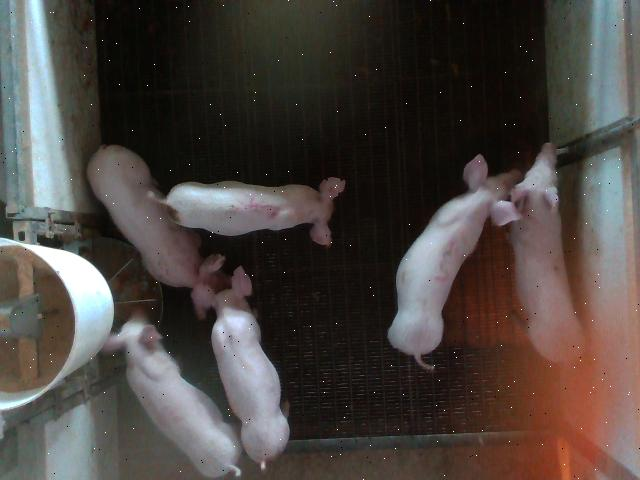pig-3: (389, 154, 521, 369)
pig-4: (102, 314, 241, 477)
pig-5: (151, 178, 345, 246)
